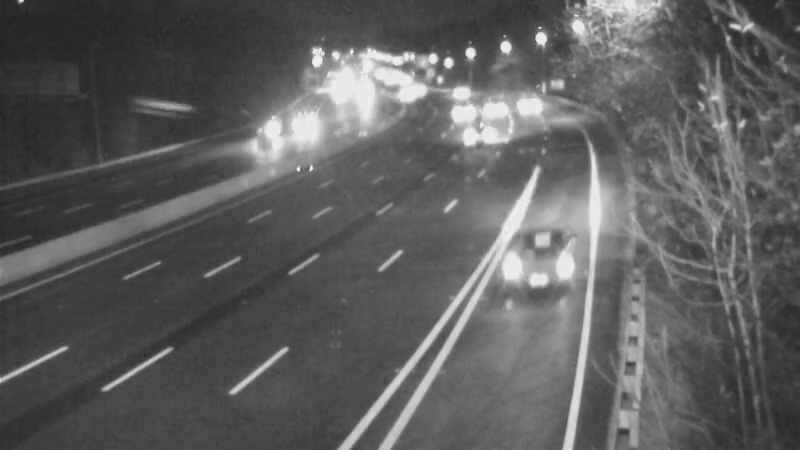vehicle: (500, 225, 580, 305), (427, 61, 477, 111), (378, 69, 428, 119), (501, 75, 551, 125), (465, 81, 515, 131), (447, 81, 497, 131), (446, 115, 496, 165), (238, 115, 288, 165), (291, 100, 341, 150)
